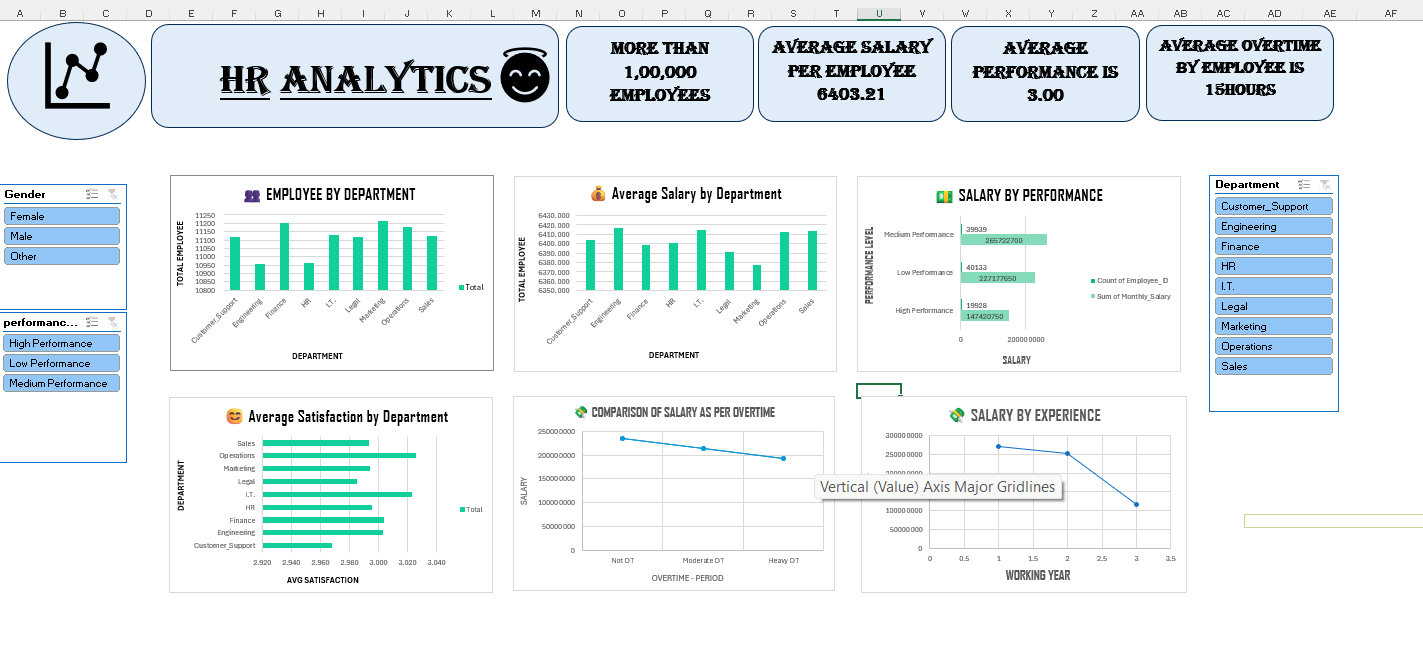

The dashboard page shown, as its layout file describes it:
{"tool":"powerbi","page":{"name":"Department & Performance Analysis","canvas":[1280,720],"ordinal":1},"visuals":[{"type":"textbox","box":[0,0,1280.3,67.2],"z":0},{"type":"cardVisual","fields":{"Data":["Measure Table.Avg Department Salary"]},"box":[0,175,320,155],"z":1000},{"type":"cardVisual","fields":{"Data":["Measure Table.Avg Performance Department"]},"box":[320,175,320,155],"z":2000},{"type":"cardVisual","fields":{"Data":["Measure Table.Avg Project Handle"]},"box":[640,175,326.7,155],"z":3000},{"type":"cardVisual","fields":{"Data":["Measure Table.Avg TeamSize"]},"box":[966.7,175,313.3,155],"z":4000},{"type":"clusteredColumnChart","title":"Project Handle By Department","fields":{"Category":["Clean data.Department"],"Y":["Sum(Clean data.Projects_Handled)"]},"box":[1.7,328.3,421.7,195],"z":5000},{"type":"areaChart","title":"Avg Performance By Job Role","fields":{"Category":["Clean data.Job_Title"],"Y":["Avg(Clean data.Performance_Score)"]},"box":[0,523.3,421.7,196.7],"z":6000},{"type":"clusteredColumnChart","title":"Performance Bedge Rank % By Department","fields":{"Y":["CountNonNull(Clean data.Rank_By_Performance)"],"Category":["Clean data.Department"]},"box":[820,328.3,460,195],"z":7000},{"type":"lineChart","title":"Project Handle By Age Group","fields":{"Y":["Sum(Clean data.Projects_Handled)"],"Category":["Clean data.Job_Title"]},"box":[820,521.7,460,196.7],"z":8000},{"type":"clusteredBarChart","title":"Remote Work Frequency By Age ","fields":{"Category":["Clean data.Age_group"],"Y":["CountNonNull(Clean data.Remote_Work_Frequency)"]},"box":[421.7,328.3,398.3,193.3],"z":9000},{"type":"clusteredColumnChart","title":"Working Hours By Department","fields":{"Category":["Clean data.Department"],"Y":["CountNonNull(Clean data.Work_Hours_Per_Week)"]},"box":[423.3,523.3,396.7,196.7],"z":10000},{"type":"slicer","fields":{"Values":["Clean data.Department"]},"box":[0,90.8,281.1,74.6],"z":11000},{"type":"slicer","fields":{"Values":["Clean data.Job_Title"]},"box":[502.6,100.8,273.1,75.5],"z":12000},{"type":"slicer","fields":{"Values":["Clean data.Age_group"]},"box":[988.9,89.6,291.1,74.6],"z":13000}]}

Visuals, with their boxes on the page's 1280x720 design canvas (x1, y1, x2, y2). These are canvas units, not pixel positions in the 1423x647 screenshot, which may show the page scaled, cropped or inside an application window:
textbox: <region>0, 0, 1280, 67</region>
cardVisual - Measure Table.Avg Department Salary: <region>0, 175, 320, 330</region>
cardVisual - Measure Table.Avg Performance Department: <region>320, 175, 640, 330</region>
cardVisual - Measure Table.Avg Project Handle: <region>640, 175, 967, 330</region>
cardVisual - Measure Table.Avg TeamSize: <region>967, 175, 1280, 330</region>
"Project Handle By Department" clusteredColumnChart: <region>2, 328, 423, 523</region>
"Avg Performance By Job Role" areaChart: <region>0, 523, 422, 720</region>
"Performance Bedge Rank % By Department" clusteredColumnChart: <region>820, 328, 1280, 523</region>
"Project Handle By Age Group" lineChart: <region>820, 522, 1280, 718</region>
"Remote Work Frequency By Age " clusteredBarChart: <region>422, 328, 820, 522</region>
"Working Hours By Department" clusteredColumnChart: <region>423, 523, 820, 720</region>
slicer - Clean data.Department: <region>0, 91, 281, 165</region>
slicer - Clean data.Job_Title: <region>503, 101, 776, 176</region>
slicer - Clean data.Age_group: <region>989, 90, 1280, 164</region>
